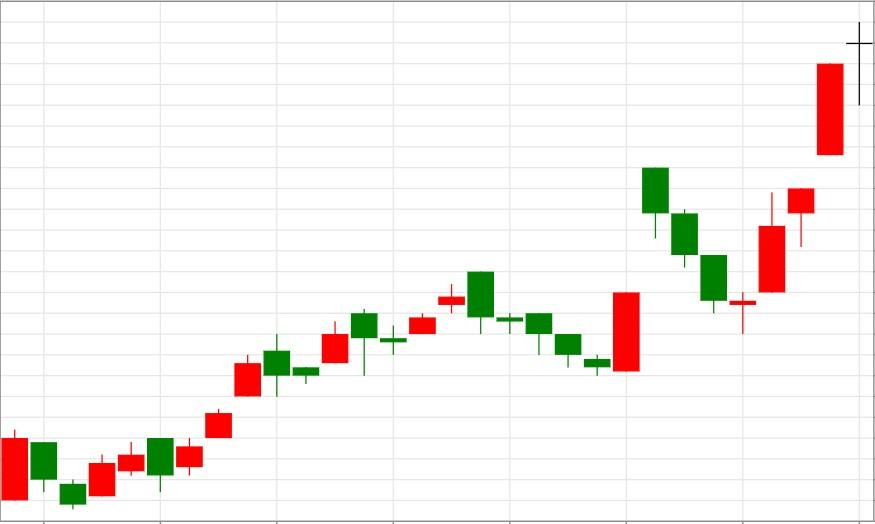bearish_engulfing_fall: (58, 438, 175, 509)
bullish_engulfing_rise: (466, 269, 640, 376)
three_black_crows_fall: (583, 167, 728, 375)
